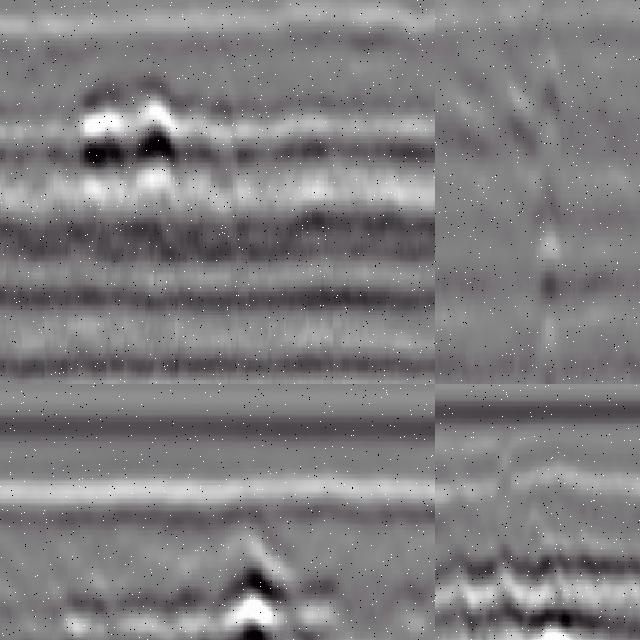crack: (533, 1, 563, 385)
loose: (65, 73, 227, 225), (151, 540, 383, 640), (453, 536, 637, 640), (436, 538, 557, 640)
